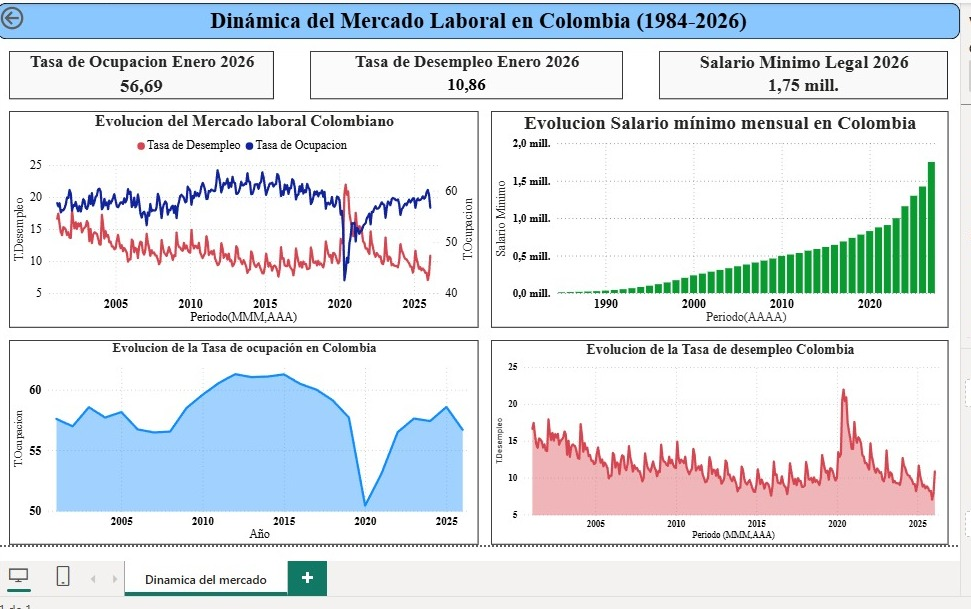

Layout of this report page (visuals, bound fields, positions):
{"tool":"powerbi","page":{"name":"Dinamica del mercado ","canvas":[1280,720],"ordinal":0},"visuals":[{"type":"shape","box":[0,0,1280,48],"z":0},{"type":"kpi","title":"Tasa de Desempleo Enero 2026","fields":{"Indicator":["Tasa de ocupacion y desempleo.Desempleo 2026"],"TrendLine":["Tasa de ocupacion y desempleo.Tasa de desempleo - total nacional"]},"box":[416,64,416,64],"z":1000},{"type":"kpi","title":"Salario Minimo Legal 2026","fields":{"Indicator":["salario.Salario 2026"],"TrendLine":["salario.Salario mínimo mensual"]},"box":[880,64,384,64],"z":2000},{"type":"lineChart","title":"Evolucion del Mercado laboral Colombiano","fields":{"Y":["Avg(Tasa de ocupacion y desempleo.Tasa de desempleo - total nacional)"],"Y2":["Avg(Tasa de ocupacion y desempleo.Tasa de ocupación - total nacional)"],"Category":["Tasa de ocupacion y desempleo.Periodo(MMM, AAAA)"]},"box":[16,144,624,288],"z":3000},{"type":"lineClusteredColumnComboChart","title":"Evolucion Salario mínimo mensual en Colombia","fields":{"Category":["salario.Periodo(AAAA)"],"Y":["Sum(salario.Salario mínimo mensual)"]},"box":[656,144,608,288],"z":4000},{"type":"actionButton","box":[0,0,100,40],"z":5000},{"type":"areaChart","title":"Evolucion de la  Tasa de ocupación en Colombia","fields":{"Y":["Avg(Tasa de ocupacion y desempleo.Tasa de ocupación - total nacional)"],"Category":["Tasa de ocupacion y desempleo.Periodo(MMM, AAAA).Variación.Jerarquía de fechas.Año","Tasa de ocupacion y desempleo.Periodo(MMM, AAAA).Variación.Jerarquía de fechas.Trimestre","Tasa de ocupacion y desempleo.Periodo(MMM, AAAA).Variación.Jerarquía de fechas.Mes","Tasa de ocupacion y desempleo.Periodo(MMM, AAAA).Variación.Jerarquía de fechas.Día"]},"box":[16,448,624,272],"z":6000},{"type":"kpi","title":"Tasa de Ocupacion Enero 2026","fields":{"Indicator":["Tasa de ocupacion y desempleo.Ocupacion 2026"],"TrendLine":["Tasa de ocupacion y desempleo.Tasa de ocupación - total nacional"]},"box":[16,64,352,64],"z":7000},{"type":"areaChart","title":"Evolucion de la  Tasa de desempleo Colombia","fields":{"Category":["Tasa de ocupacion y desempleo.Periodo(MMM, AAAA)"],"Y":["Avg(Tasa de ocupacion y desempleo.Tasa de desempleo - total nacional)"]},"box":[656,448,608,272],"z":7001}]}

Visuals, with their boxes in screenshot pixels (x1, y1, x2, y2):
shape: <region>0, 3, 955, 38</region>
"Tasa de Desempleo Enero 2026" kpi: <region>309, 50, 620, 98</region>
"Salario Minimo Legal 2026" kpi: <region>656, 50, 943, 98</region>
"Evolucion del Mercado laboral Colombiano" lineChart: <region>9, 110, 476, 326</region>
"Evolucion Salario mínimo mensual en Colombia" lineClusteredColumnComboChart: <region>488, 110, 943, 326</region>
actionButton: <region>0, 3, 72, 32</region>
"Evolucion de la  Tasa de ocupación en Colombia" areaChart: <region>9, 338, 476, 541</region>
"Tasa de Ocupacion Enero 2026" kpi: <region>9, 50, 273, 98</region>
"Evolucion de la  Tasa de desempleo Colombia" areaChart: <region>488, 338, 943, 541</region>
